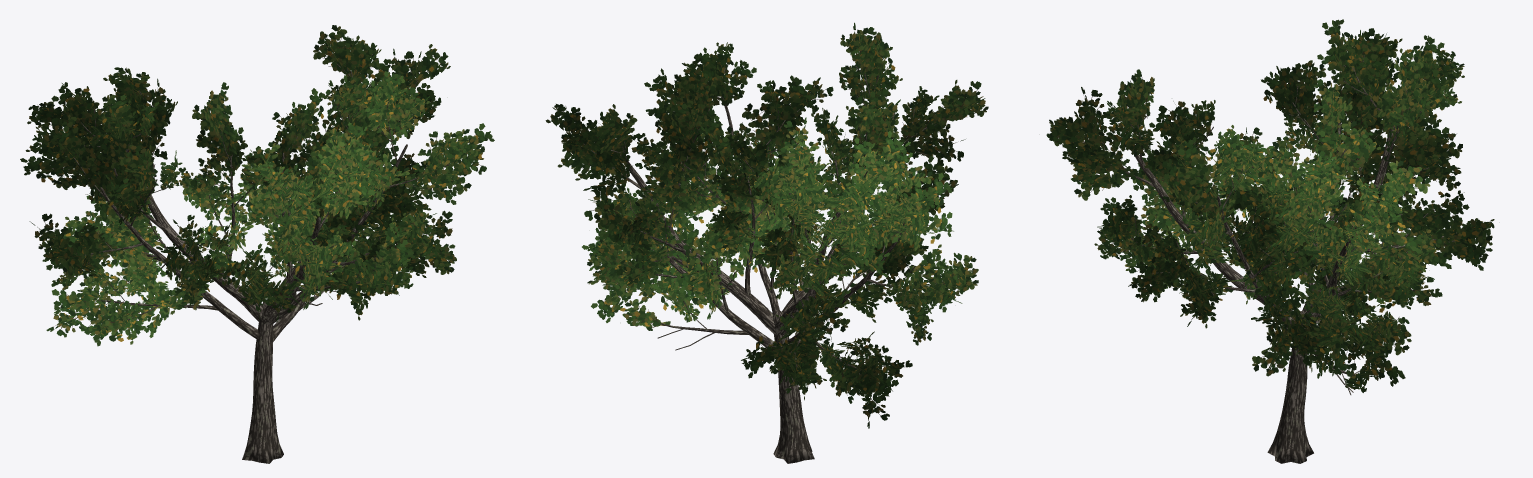
The model's file is tree-oak.glb.
3 views of the same model, side by side, from view 1: azimuth 30°, elevation 25°; view 2: azimuth 150°, elevation 25°; view 3: azimuth 270°, elevation 25° (orthographic). The views are drawn at different scales.
Parts seen in each view (by area): view 1: foliage, tree-oak; view 2: foliage, tree-oak; view 3: foliage, tree-oak.
Part boxes in pixels (x1,y1,x2,y2): foliage: (20,25,494,346); tree-oak: (59,64,448,463); foliage: (545,22,988,428); tree-oak: (584,64,951,463); foliage: (1046,19,1494,392); tree-oak: (1102,55,1456,463).
Size of the model in its own units: 12.35 by 10.09 by 11.45.
Materials: 2 (2 with a texture image).
